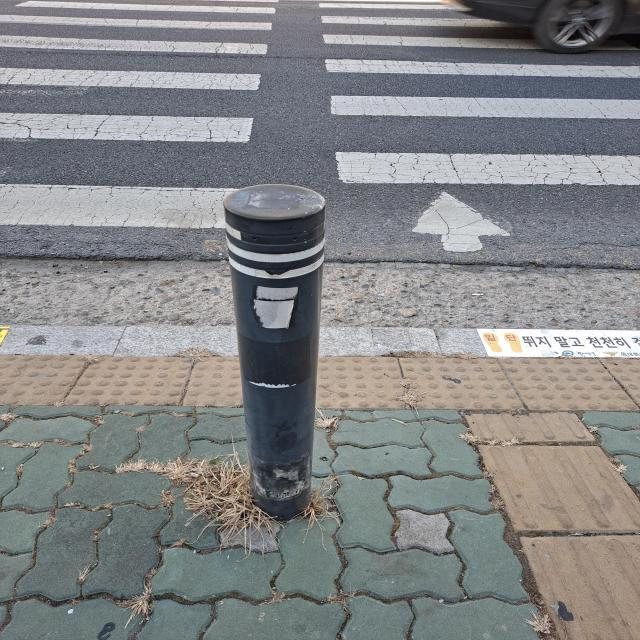pole: (225, 184, 328, 516)
